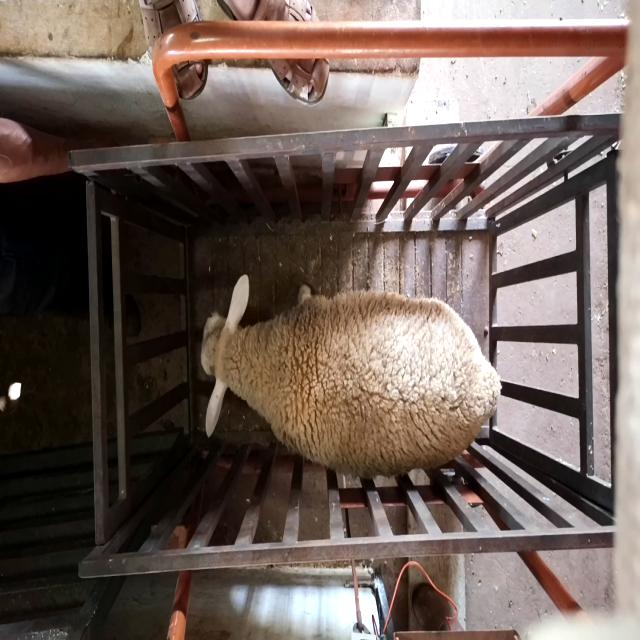sheep: (201, 272, 503, 478)
